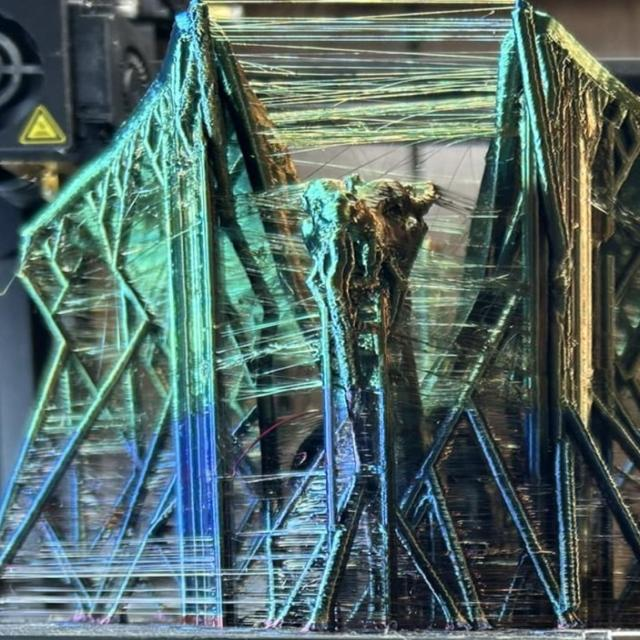stringing: (221, 11, 526, 142), (219, 300, 321, 388), (399, 259, 504, 323), (21, 552, 213, 587)
